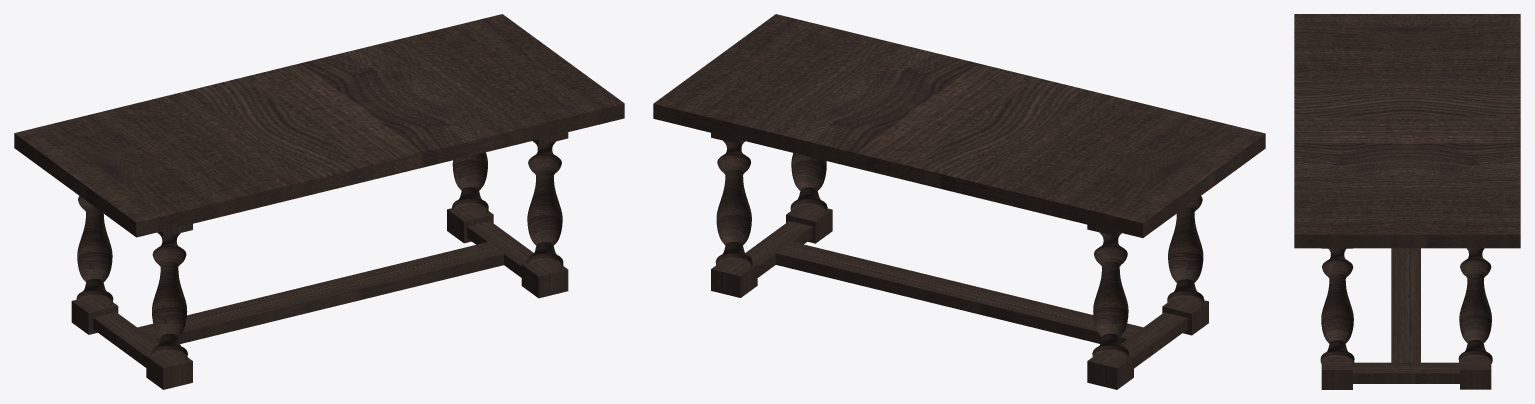
Rendered from classic_coffee_table.glb.
3 renders of one model, left to right at view 1: azimuth 30°, elevation 25°; view 2: azimuth 150°, elevation 25°; view 3: azimuth 270°, elevation 25°, orthographic. The views are drawn at different scales.
Visible parts, largest first — view 1: Cube_3, Cube, Lathe, Lathe_2, Cube_2_3, Cube_2_2, Cube_2_5; view 2: Cube_3, Cube, Lathe_2, Lathe, Cube_2_3, Cube_2_5, Cube_2_2; view 3: Cube_3, Cube, Lathe, Lathe_2, Cube_2_3, Cube_2_5, Cube_2_2.
Part boxes in pixels (bbox=[...]): Cube_3: bbox=[14, 14, 624, 237]; Cube: bbox=[137, 242, 504, 343]; Lathe: bbox=[151, 141, 563, 362]; Lathe_2: bbox=[76, 152, 488, 306]; Cube_2_3: bbox=[93, 221, 533, 367]; Cube_2_2: bbox=[146, 260, 568, 389]; Cube_2_5: bbox=[71, 205, 493, 334]; Cube_3: bbox=[653, 14, 1265, 237]; Cube: bbox=[775, 241, 1143, 343]; Lathe_2: bbox=[715, 140, 1129, 362]; Lathe: bbox=[790, 153, 1204, 307]; Cube_2_3: bbox=[745, 221, 1187, 368]; Cube_2_5: bbox=[711, 259, 1133, 389]; Cube_2_2: bbox=[786, 205, 1208, 335]; Cube_3: bbox=[1294, 14, 1520, 248]; Cube: bbox=[1391, 248, 1420, 362]; Lathe: bbox=[1320, 248, 1354, 366]; Lathe_2: bbox=[1458, 248, 1492, 365]; Cube_2_3: bbox=[1353, 362, 1459, 383]; Cube_2_5: bbox=[1460, 356, 1491, 389]; Cube_2_2: bbox=[1321, 357, 1352, 389].
Size of the model in its own units: 105 by 38.87 by 45.73.
Materials: 1 (1 with a texture image).
